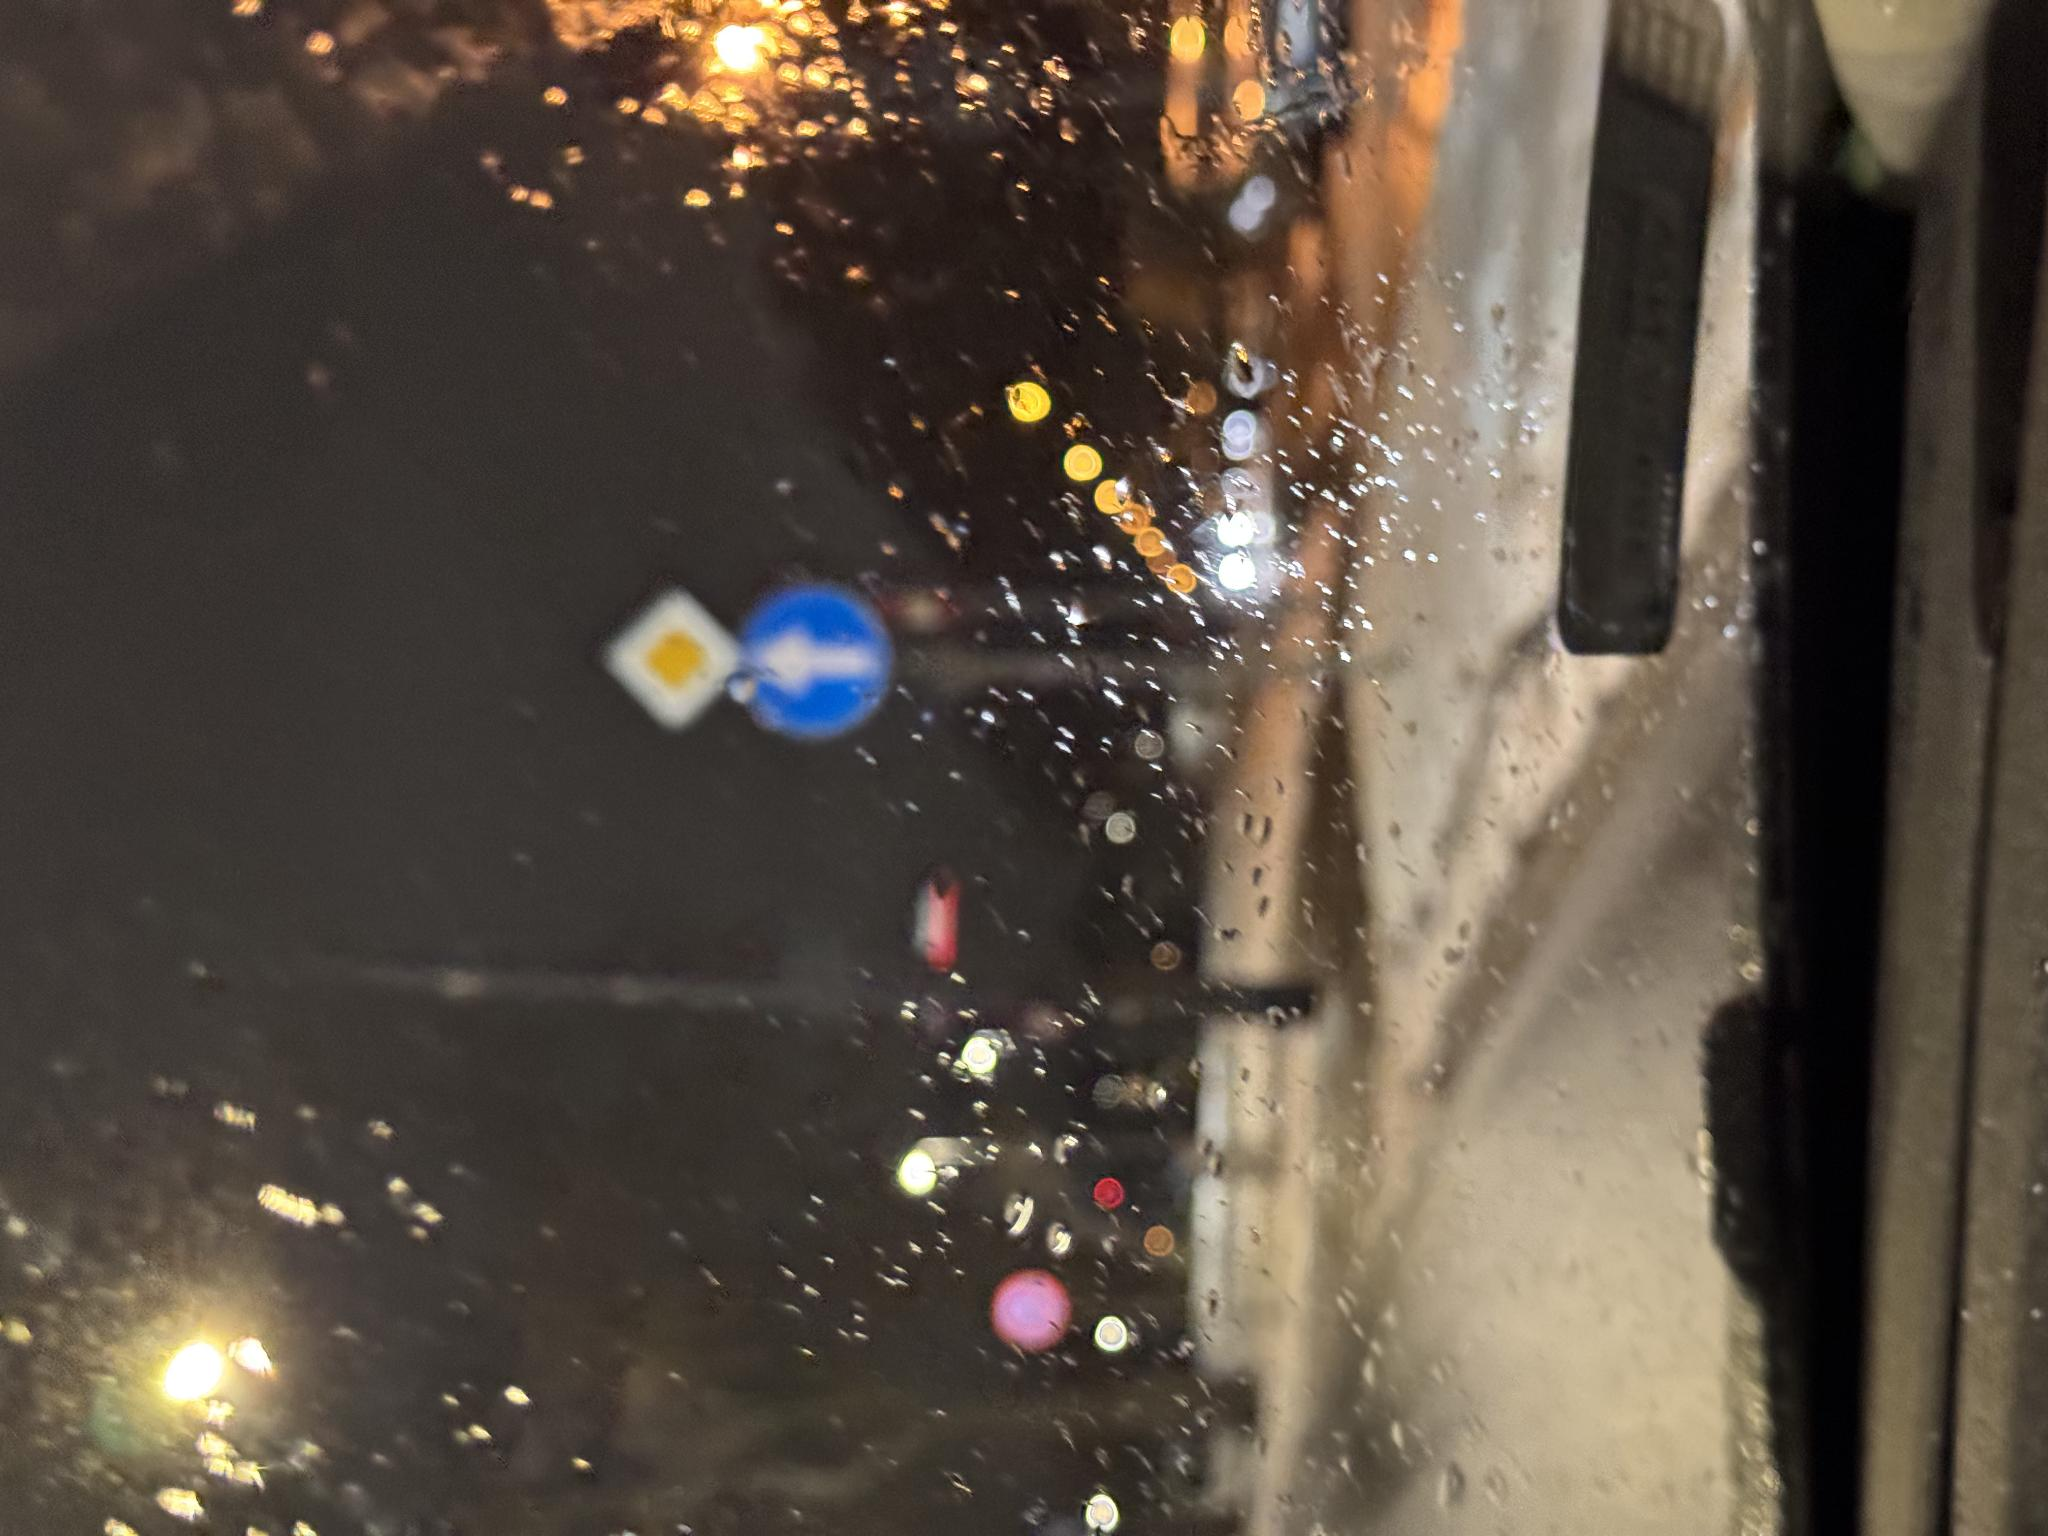information: (803, 602, 949, 744)
mandatory: (796, 742, 952, 896)
prohibitory: (184, 987, 268, 1073)
